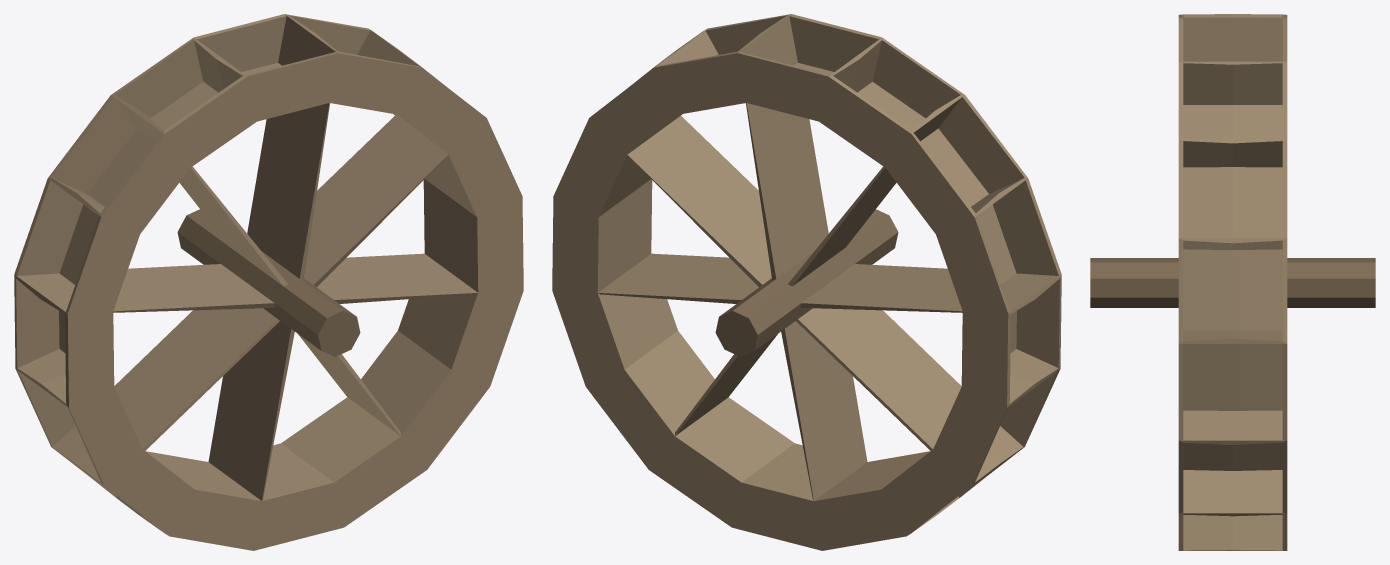
The model's file is Water_Mill.fbx.
3 renders of one model, left to right at view 1: azimuth 30°, elevation 25°; view 2: azimuth 150°, elevation 25°; view 3: azimuth 270°, elevation 25°, orthographic.
Visible parts, largest first — view 1: Water Mill; view 2: Water Mill; view 3: Water Mill.
Boxes of the visible parts, x1,y1,x2,y2 form: Water Mill: [14, 14, 523, 550]; Water Mill: [552, 14, 1061, 550]; Water Mill: [1090, 14, 1375, 550].
Size of the model in its own units: 591 by 591 by 315.
